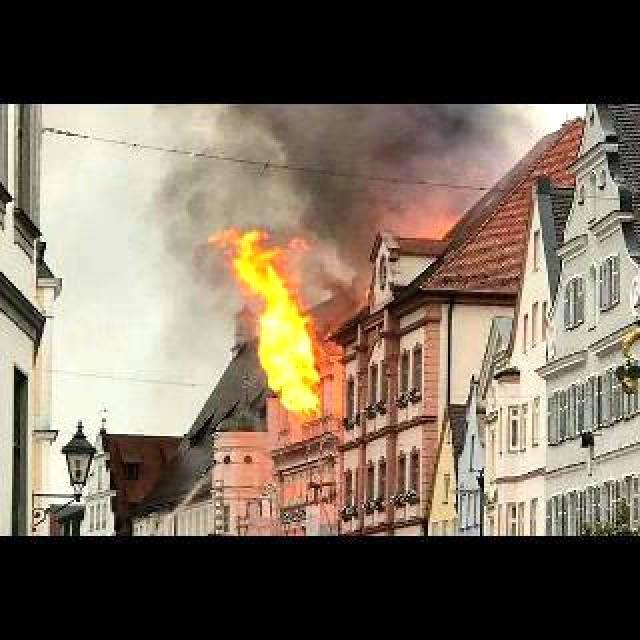fire: (150, 102, 474, 224), (212, 224, 332, 408)
